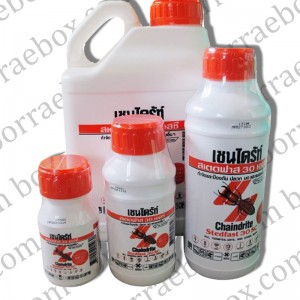Insecticide: (179, 42, 275, 284), (55, 1, 214, 144), (99, 109, 181, 293), (33, 151, 108, 290)
